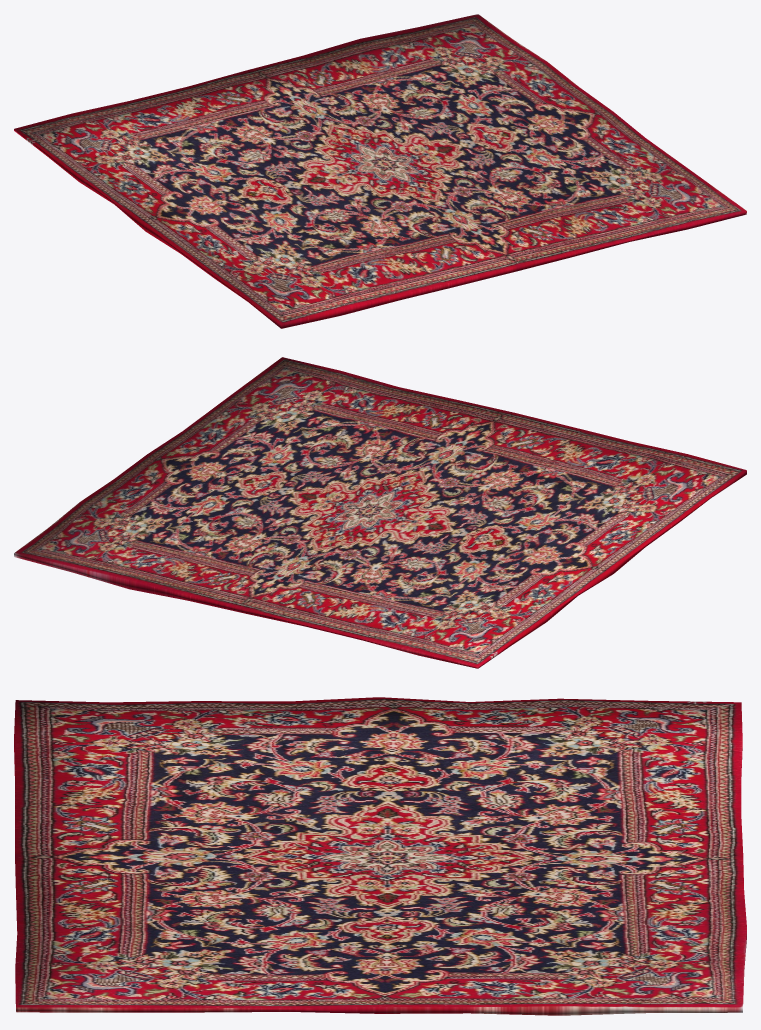
The model's file is Bedroom_carpet.glb.
The picture shows the model from 3 angles, top to bottom: view 1: azimuth 30°, elevation 25°; view 2: azimuth 150°, elevation 25°; view 3: azimuth 270°, elevation 25°; orthographic projection. The views are drawn at different scales.
Visible parts, largest first — view 1: Plane.006; view 2: Plane.006; view 3: Plane.006.
Boxes of the visible parts, x1,y1,x2,y2 form: Plane.006: [14, 14, 746, 328]; Plane.006: [14, 357, 746, 668]; Plane.006: [14, 697, 746, 1015].
Bounding box in the file's own units: 9.86 × 0.2086 × 9.87.
1 material, 1 textured.
